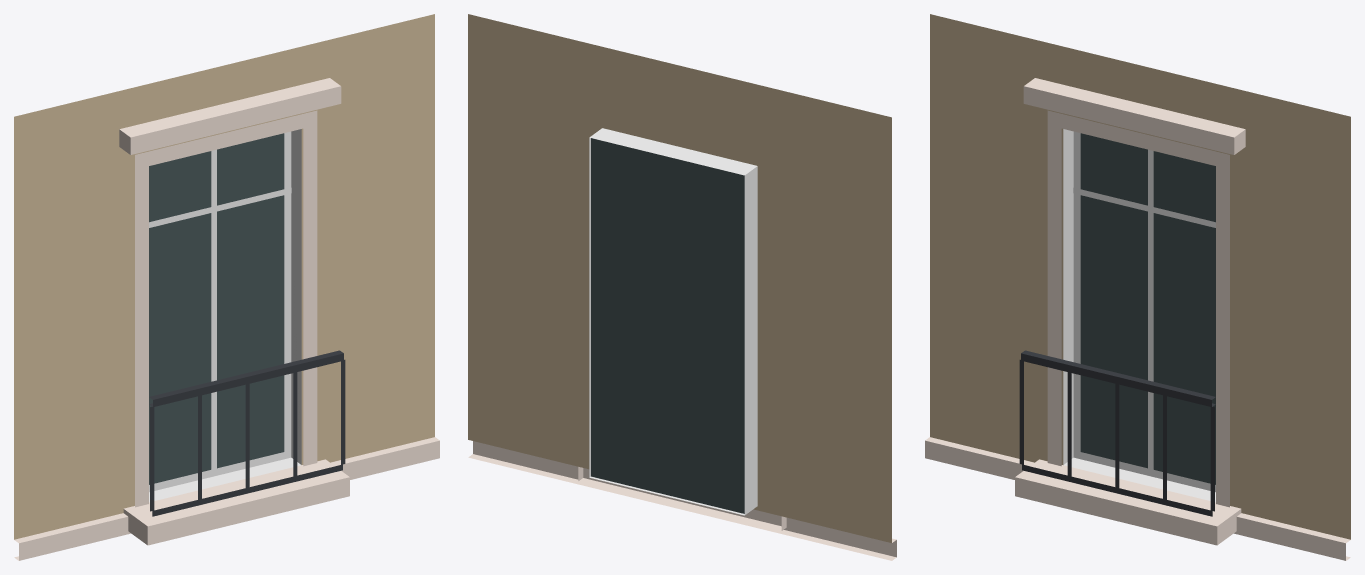
File: mid-w1.fbx
The picture shows the model from 3 angles, left to right: view 1: azimuth 30°, elevation 25°; view 2: azimuth 150°, elevation 25°; view 3: azimuth 330°, elevation 25°; orthographic projection.
Parts seen in each view (by area): view 1: a2006/500/mid-w1; view 2: a2006/500/mid-w1; view 3: a2006/500/mid-w1.
Boxes of the visible parts, x1,y1,x2,y2 form: a2006/500/mid-w1: (14,14,439,560); a2006/500/mid-w1: (468,14,896,560); a2006/500/mid-w1: (925,14,1350,560).
Size of the model in its own units: 3 by 3 by 0.46.
